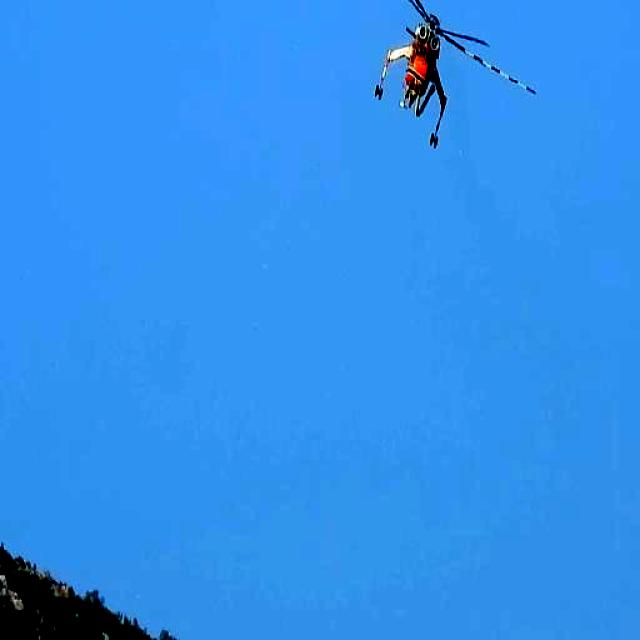drone: (336, 0, 539, 151)
